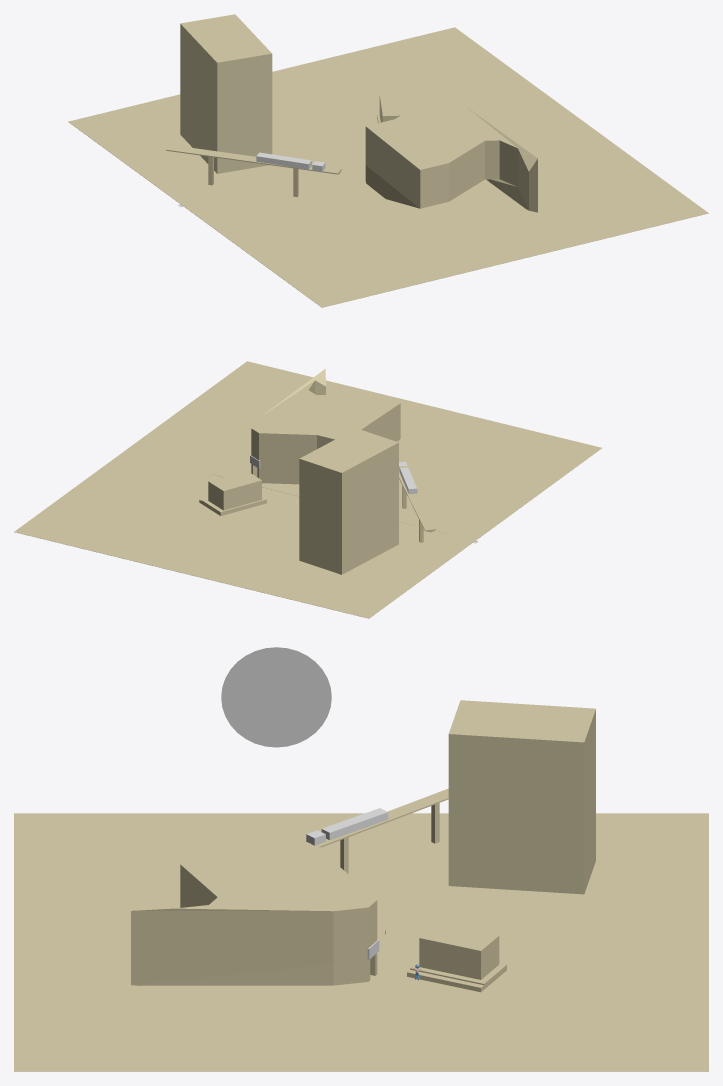
3 renders of one model, top to bottom at view 1: azimuth 30°, elevation 25°; view 2: azimuth 150°, elevation 25°; view 3: azimuth 270°, elevation 25°, orthographic. The views are drawn at different scales.
Parts seen in each view (by area): view 1: ground, Circle; view 2: ground, Circle; view 3: ground, Circle.
Part boxes in pixels (x1,y1,x2,y2): ground: (68,14,708,307); Circle: (178,152,364,207); ground: (14,361,601,618); Circle: (206,455,477,543); ground: (14,700,708,1071); Circle: (221,647,388,959).
Bounding box in the file's own units: 143 × 37.02 × 109.
4 materials, 1 textured.
